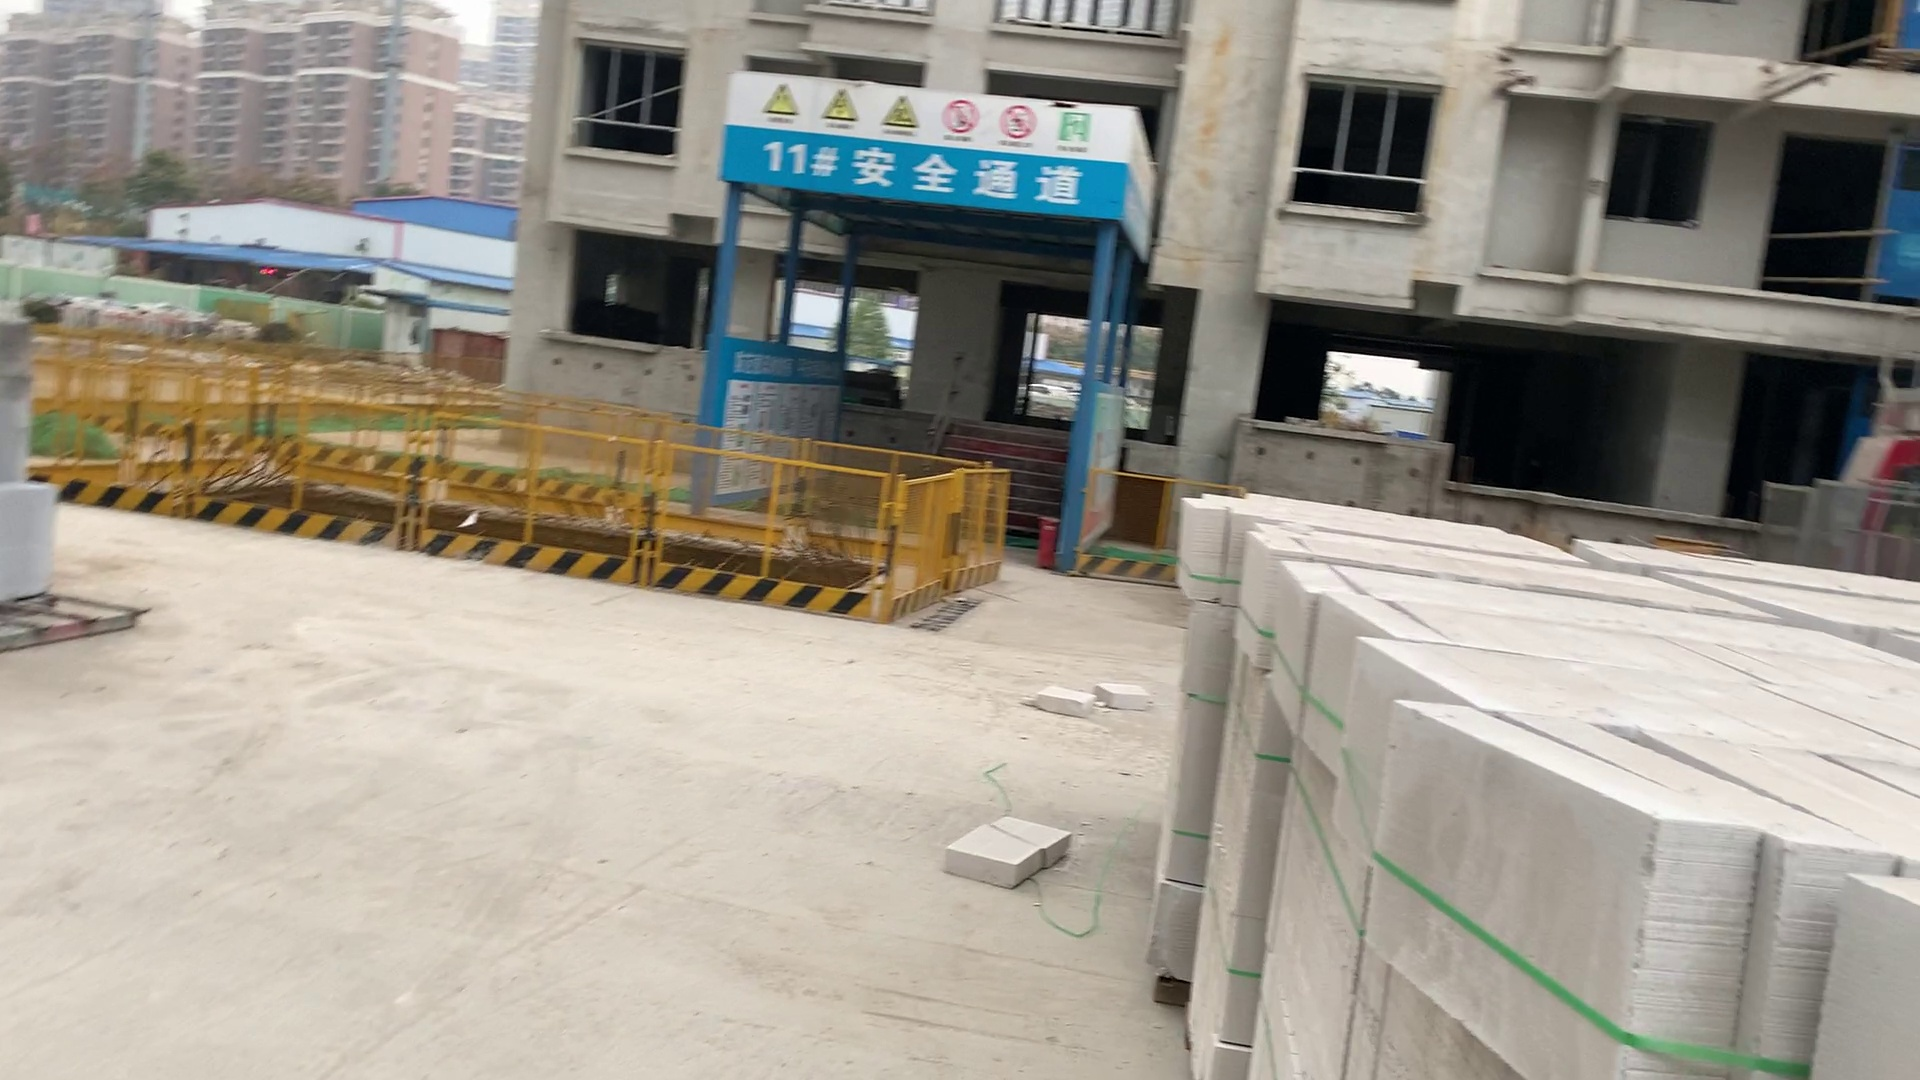brickwork: (1396, 708, 1920, 1073), (1255, 526, 1774, 612), (1317, 592, 1920, 665), (1352, 638, 1920, 705), (1284, 566, 1822, 632), (1211, 489, 1578, 554), (3, 319, 66, 604)
